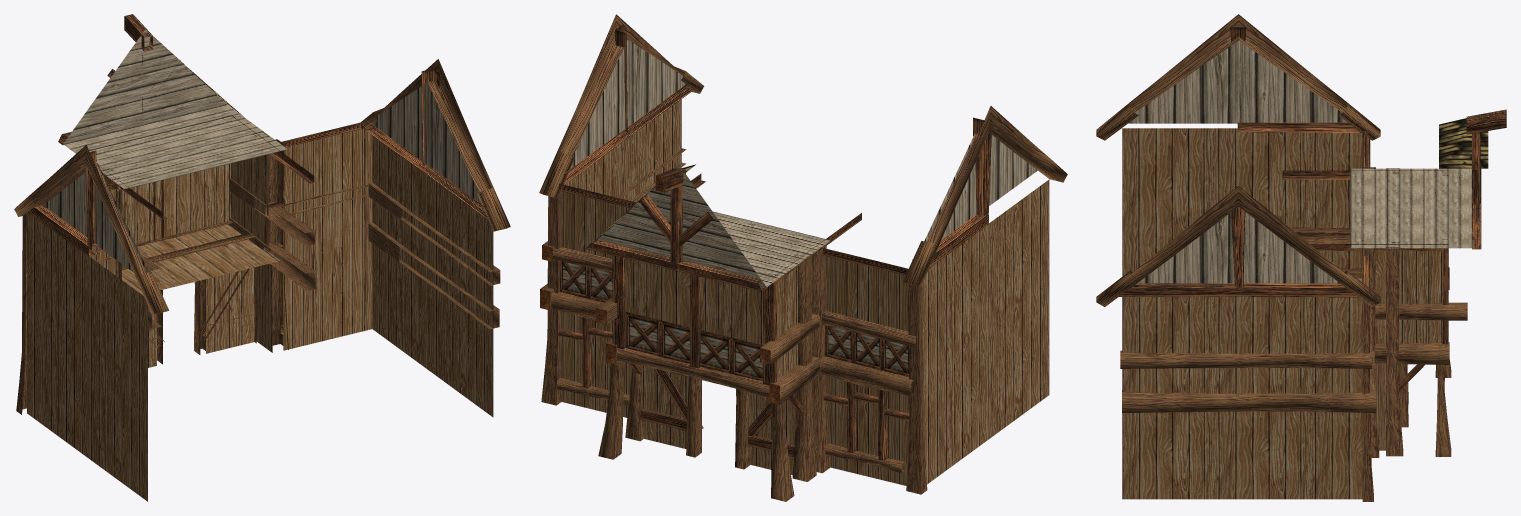
File: LAKETOWN_EXTERIOR_PS_LT_BIGHOUSE534__GX.fbx
3 renders of one model, left to right at view 1: azimuth 30°, elevation 25°; view 2: azimuth 150°, elevation 25°; view 3: azimuth 270°, elevation 25°, orthographic. The views are drawn at different scales.
Visible parts, largest first — view 1: LAKETOWN_EXTERIOR_PS_LT_BIGHOUSE534__GX; view 2: LAKETOWN_EXTERIOR_PS_LT_BIGHOUSE534__GX; view 3: LAKETOWN_EXTERIOR_PS_LT_BIGHOUSE534__GX.
Part boxes in pixels (<box>): LAKETOWN_EXTERIOR_PS_LT_BIGHOUSE534__GX: <box>14,14,510,501</box>; LAKETOWN_EXTERIOR_PS_LT_BIGHOUSE534__GX: <box>539,14,1067,501</box>; LAKETOWN_EXTERIOR_PS_LT_BIGHOUSE534__GX: <box>1096,14,1506,501</box>.
Bounding box in the file's own units: 108815 × 91898 × 108313.
Materials: 8 (8 with a texture image).
